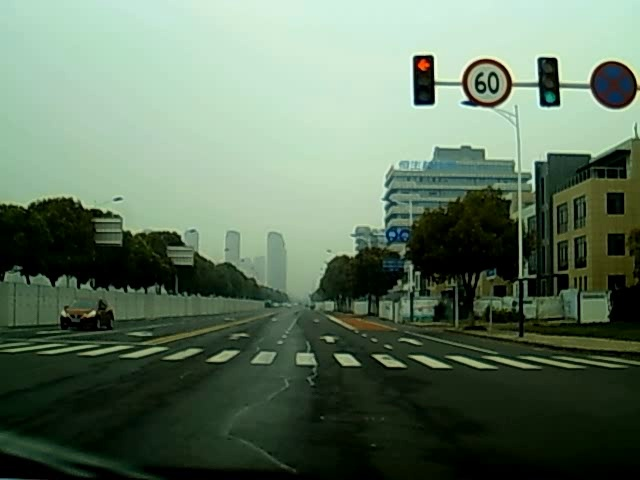Traffic_Light_go: (536, 55, 563, 108)
Traffic_Light_stop: (411, 55, 435, 108)
